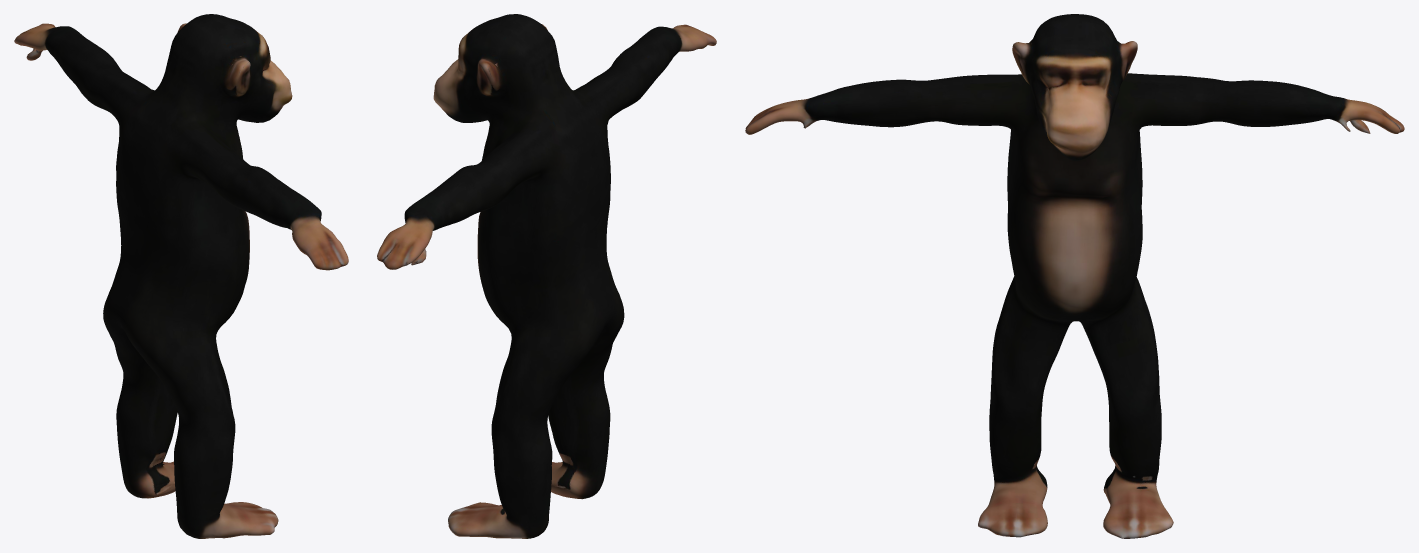
Rendered from eb21fa09628f_chimpanzee_t_pose_P.fbx.
3 renders of one model, left to right at view 1: azimuth 30°, elevation 25°; view 2: azimuth 150°, elevation 25°; view 3: azimuth 270°, elevation 25°, orthographic. The views are drawn at different scales.
Parts seen in each view (by area): view 1: mesh; view 2: mesh; view 3: mesh.
Boxes of the visible parts, x1,y1,x2,y2 form: mesh: (14, 14, 348, 538); mesh: (377, 14, 716, 538); mesh: (745, 14, 1404, 538).
Bounding box in the file's own units: 30.51 × 84.41 × 99.51.
